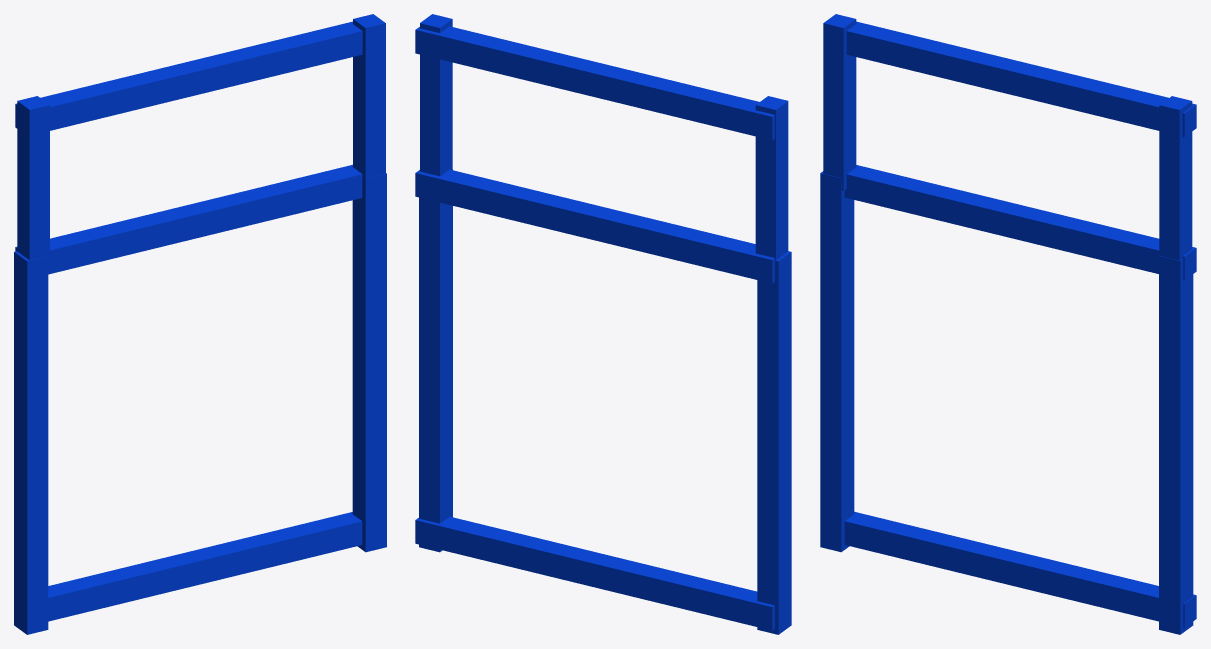
File: Bastion_Wall_03A.fbx
3 views of the same model, side by side, from view 1: azimuth 30°, elevation 25°; view 2: azimuth 150°, elevation 25°; view 3: azimuth 330°, elevation 25° (orthographic).
Visible parts, largest first — view 1: Bastion_Wall_03A; view 2: Bastion_Wall_03A; view 3: Bastion_Wall_03A.
Part boxes in pixels (box(x1,y1,x2,y2)): Bastion_Wall_03A: box(14, 14, 386, 634); Bastion_Wall_03A: box(415, 14, 791, 634); Bastion_Wall_03A: box(820, 14, 1196, 634).
Size of the model in its own units: 303 by 420 by 22.45.
